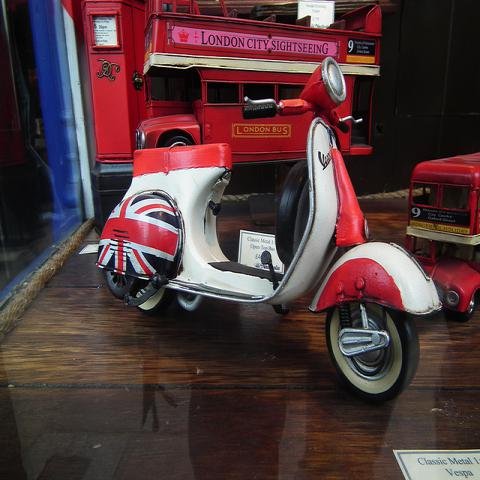bus: (128, 0, 383, 202), (406, 152, 480, 320)
motorcycle: (97, 55, 442, 406)
